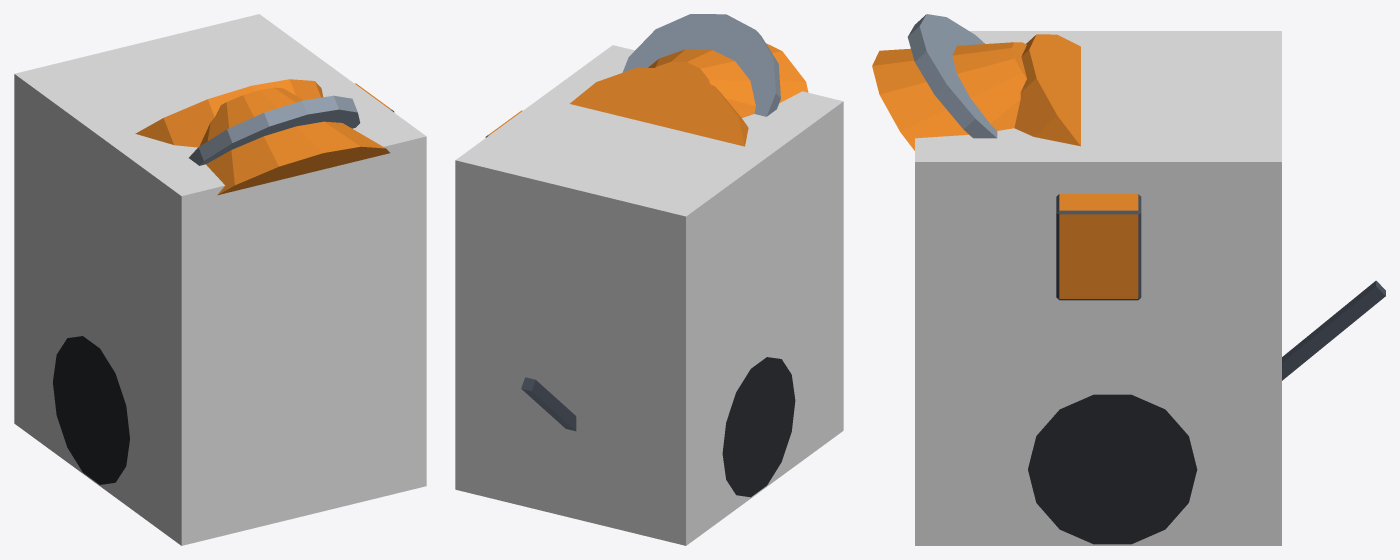
Rendered from prop_cementmixer_a.glb.
The picture shows the model from 3 angles, left to right: view 1: azimuth 30°, elevation 25°; view 2: azimuth 150°, elevation 25°; view 3: azimuth 270°, elevation 25°; orthographic projection. The views are drawn at different scales.
Parts seen in each view (by area): view 1: COL_prop_cementmixer_a_1, prop_cementmixer_a; view 2: COL_prop_cementmixer_a_1, prop_cementmixer_a; view 3: COL_prop_cementmixer_a_1, prop_cementmixer_a.
Boxes of the visible parts, bbox=[...] form: COL_prop_cementmixer_a_1: bbox=[14, 14, 426, 545]; prop_cementmixer_a: bbox=[53, 79, 394, 484]; COL_prop_cementmixer_a_1: bbox=[455, 45, 843, 545]; prop_cementmixer_a: bbox=[485, 14, 808, 497]; COL_prop_cementmixer_a_1: bbox=[915, 31, 1281, 545]; prop_cementmixer_a: bbox=[872, 14, 1385, 544].
Size of the model in its own units: 1.25 by 1.77 by 1.82.
